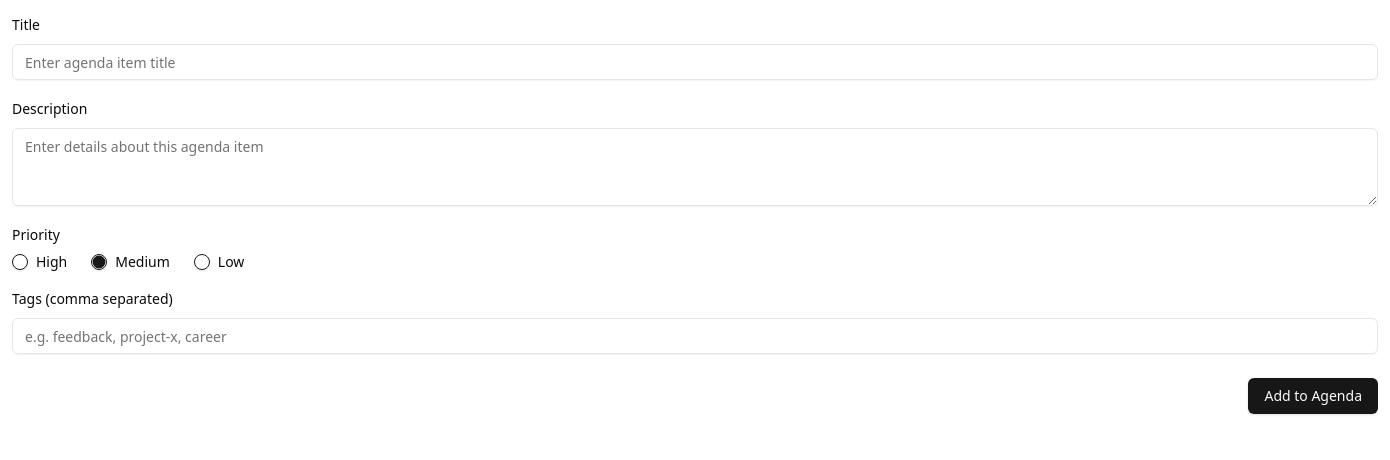
Scenario: Error Handling and Edge Cases › Validation Error Handling › AgendaItemForm Validation › handles empty title validation error
Click the button "Add to Agenda".
click(1313, 396)  # box [1248, 378, 1378, 414]
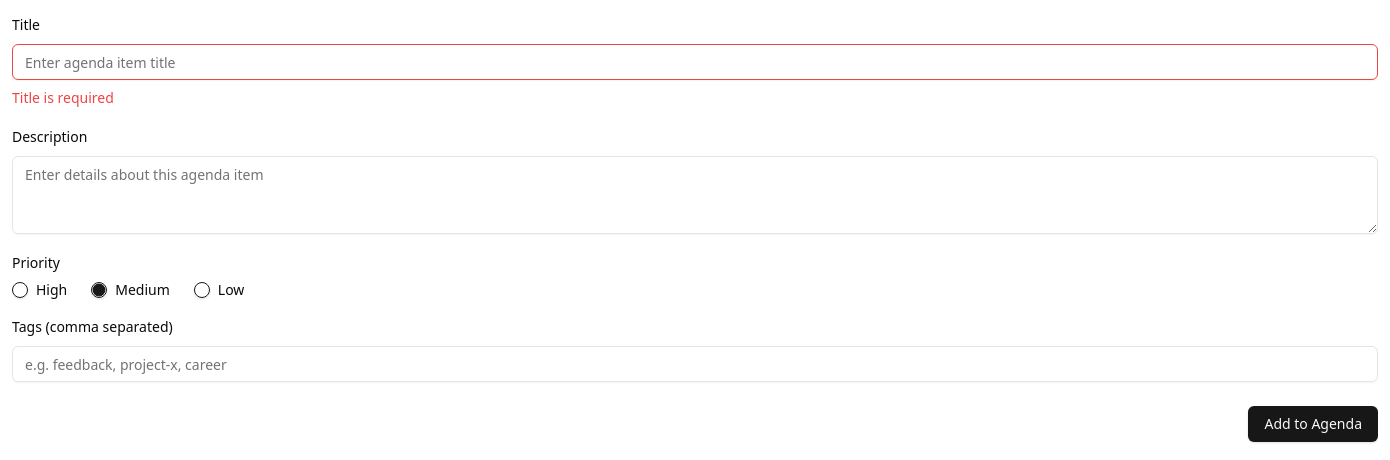
Now the text "Title is required" is shown, box [12, 88, 114, 107]
